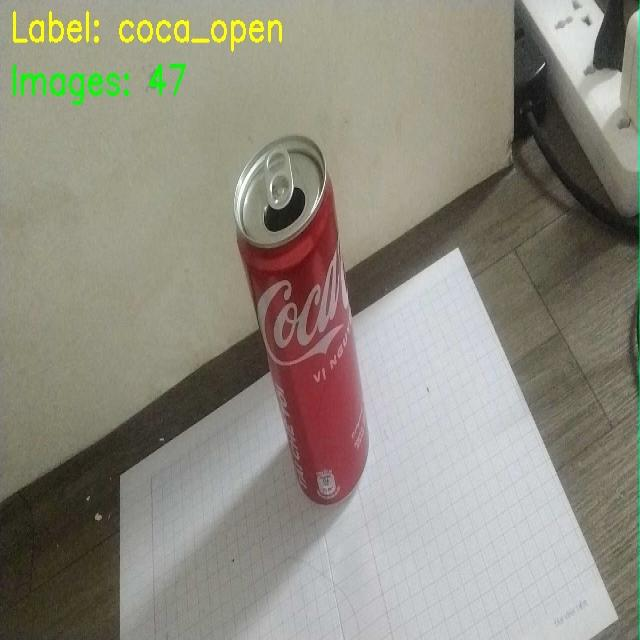Coca_open: (232, 140, 394, 521)
